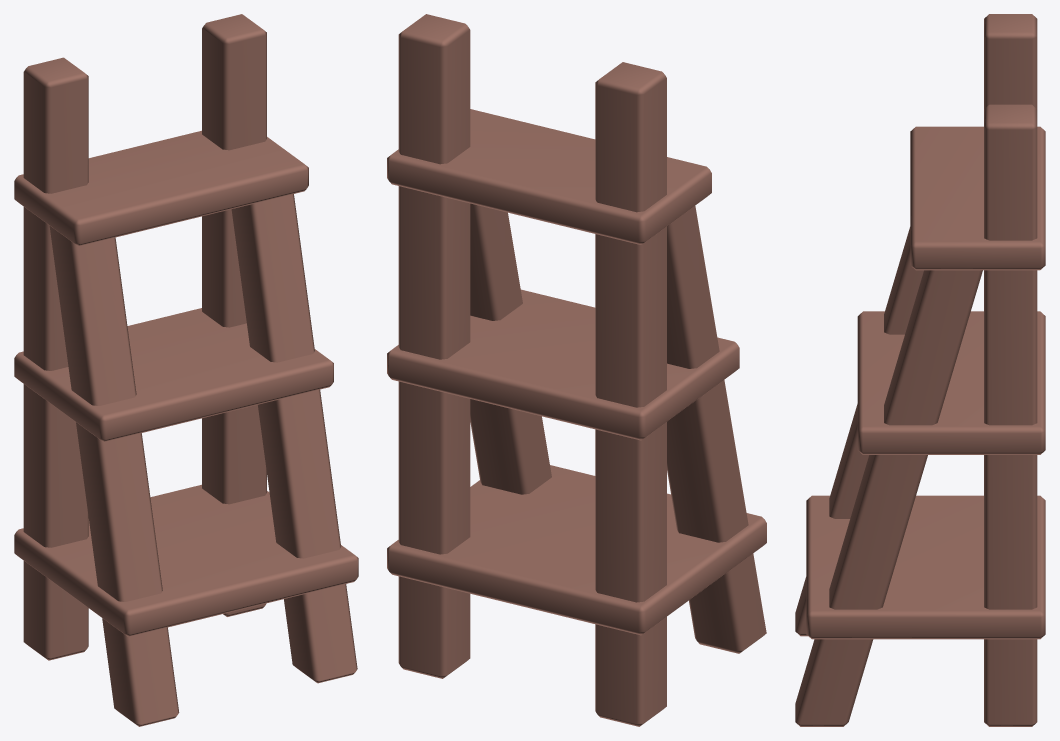
Rendered from Store_7_Shelf_1.glb.
3 renders of one model, left to right at view 1: azimuth 30°, elevation 25°; view 2: azimuth 150°, elevation 25°; view 3: azimuth 270°, elevation 25°, orthographic. The views are drawn at different scales.
Parts seen in each view (by area): view 1: Store_7_Shelf_1; view 2: Store_7_Shelf_1; view 3: Store_7_Shelf_1.
Boxes of the visible parts, bbox=[...] form: Store_7_Shelf_1: bbox=[14, 14, 358, 726]; Store_7_Shelf_1: bbox=[387, 14, 766, 726]; Store_7_Shelf_1: bbox=[795, 14, 1045, 726].
Bounding box in the file's own units: 1.12 × 2.64 × 0.9909.
1 material, 1 textured.
